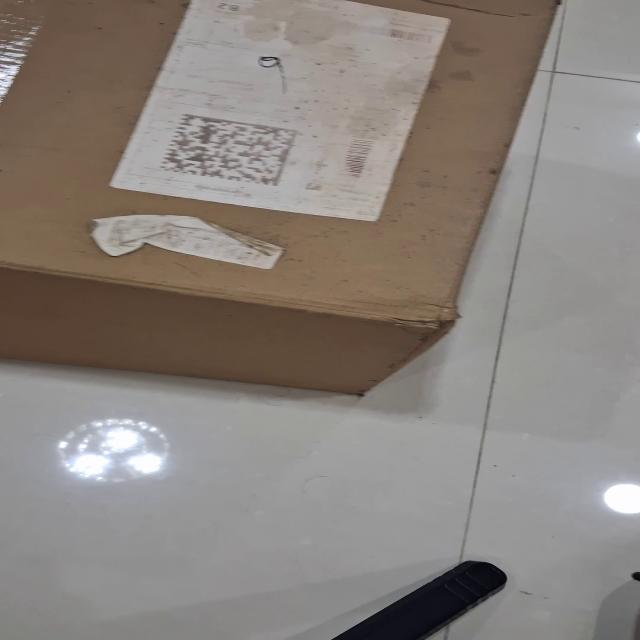paper: (107, 0, 452, 222), (88, 213, 285, 270)
